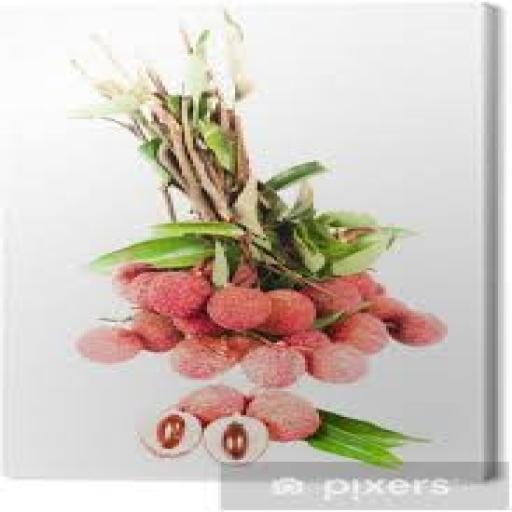lychee: (247, 390, 318, 441), (205, 416, 268, 465), (140, 410, 201, 458), (146, 272, 212, 316), (171, 337, 237, 379), (208, 287, 271, 331), (241, 345, 304, 387), (261, 289, 316, 335), (180, 386, 246, 424), (76, 326, 142, 363), (308, 343, 369, 383), (331, 313, 388, 353), (303, 278, 363, 314), (389, 311, 447, 346), (132, 311, 181, 351), (112, 263, 153, 299), (283, 330, 330, 359), (339, 272, 386, 299), (126, 272, 159, 309), (174, 311, 223, 335), (367, 297, 408, 323), (224, 334, 265, 359), (233, 263, 257, 286)
